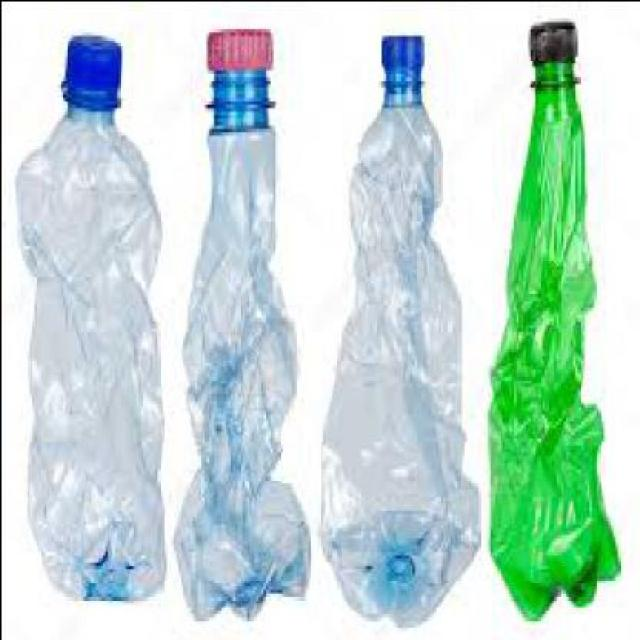PLASTIC: (314, 28, 477, 623), (9, 31, 163, 598), (170, 21, 305, 616), (484, 13, 614, 616), (54, 31, 118, 111), (524, 15, 576, 82), (204, 24, 271, 76), (375, 31, 423, 66)
